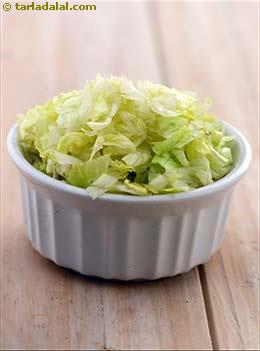chopped lettuce: (31, 83, 224, 189)
